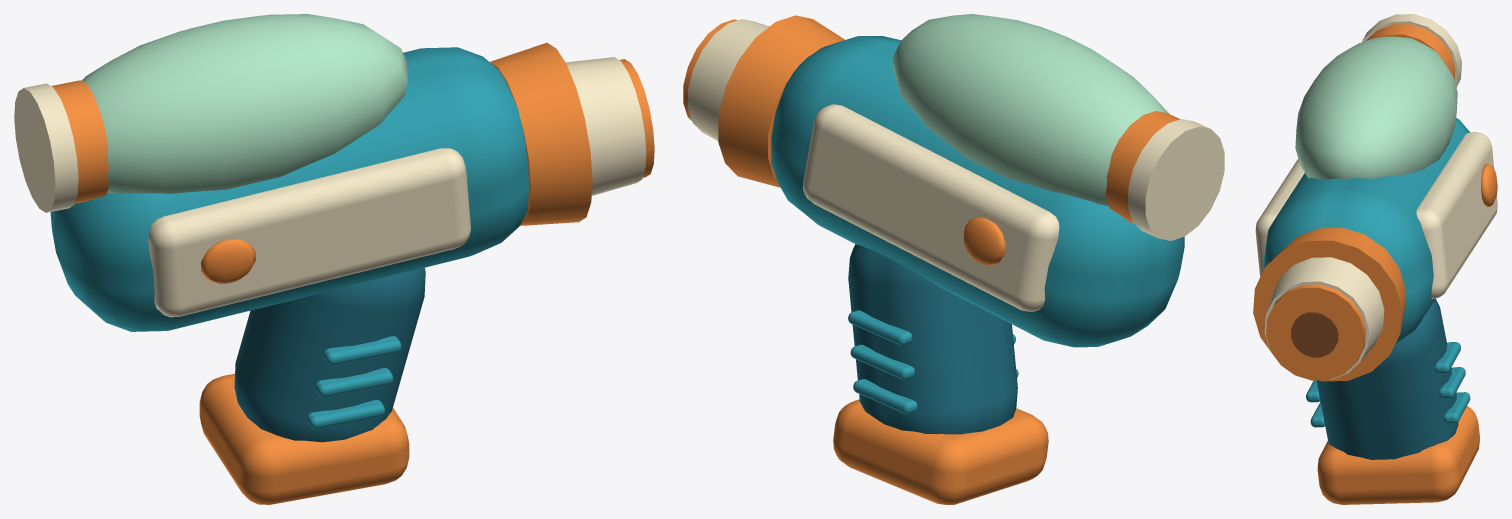
Rendered from watergun.glb.
The picture shows the model from 3 angles, left to right: view 1: azimuth 30°, elevation 25°; view 2: azimuth 150°, elevation 25°; view 3: azimuth 270°, elevation 25°; orthographic projection. The views are drawn at different scales.
Parts seen in each view (by area): view 1: watergun; view 2: watergun; view 3: watergun.
Part boxes in pixels (bbox=[...]): watergun: bbox=[14, 14, 654, 504]; watergun: bbox=[683, 14, 1224, 504]; watergun: bbox=[1253, 14, 1497, 504].
Size of the model in its own units: 1.15 by 0.9207 by 0.5153.
